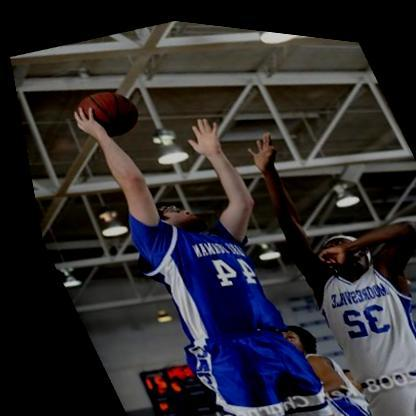basketball: (59, 77, 146, 150)
